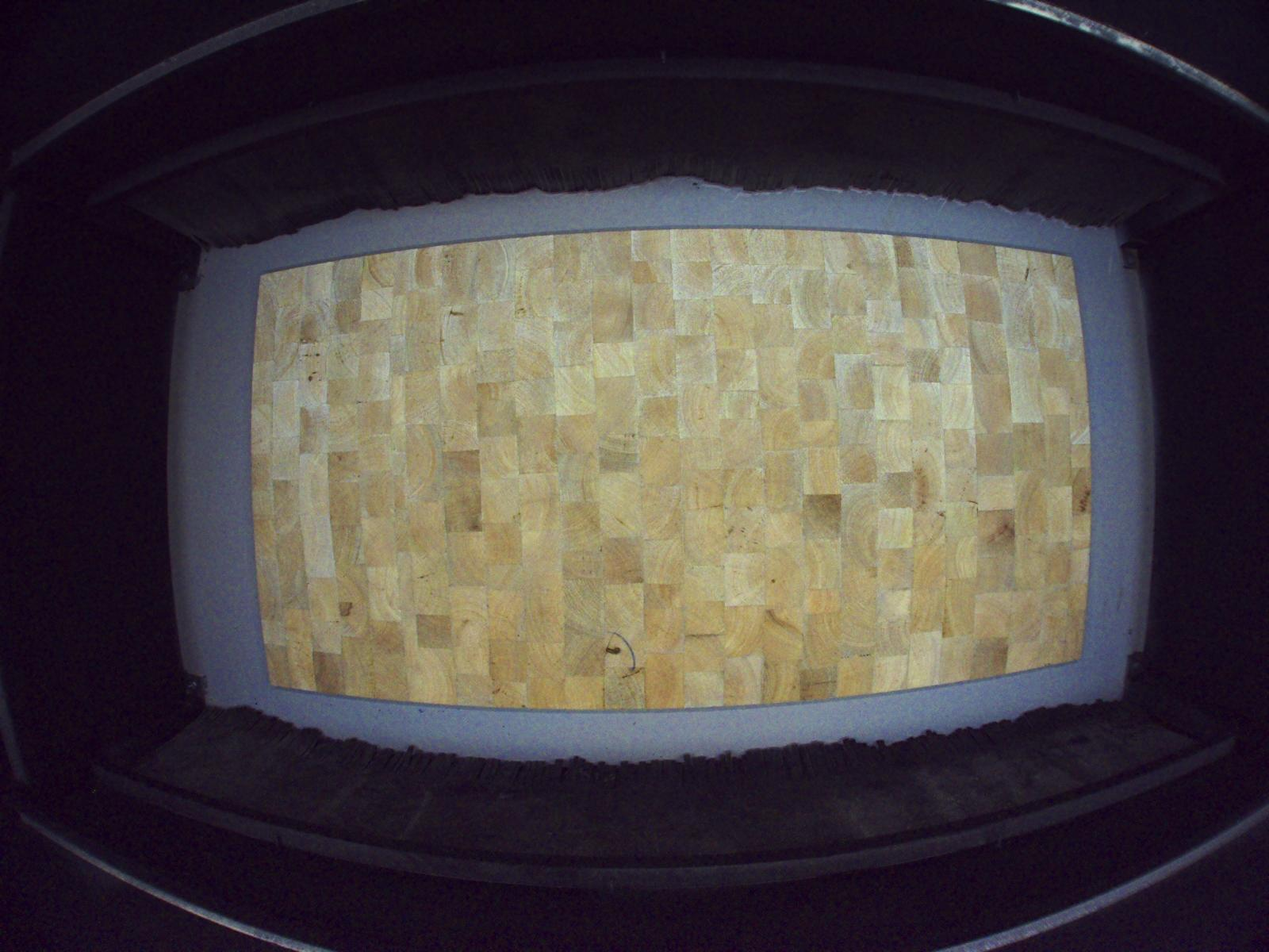sheck_ecuatoriano: (602, 626, 624, 660)
